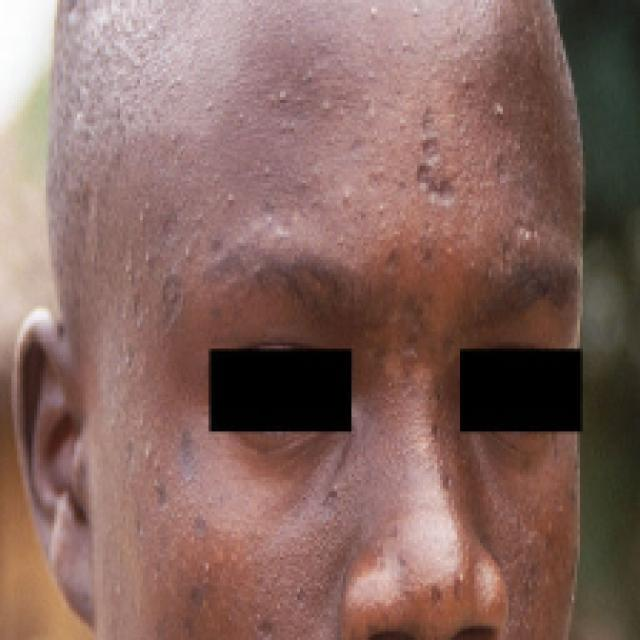Eczema: (48, 4, 546, 280)
